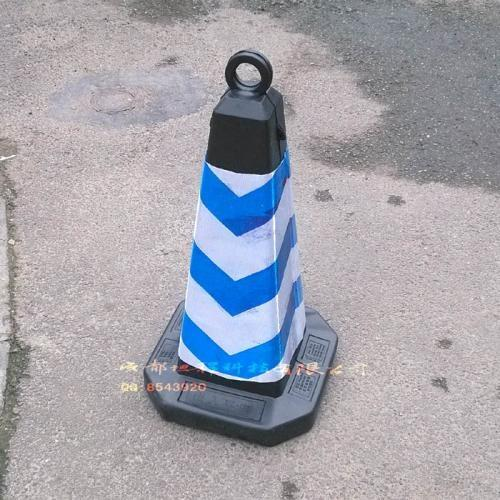cone_barrel: (144, 32, 341, 419)
